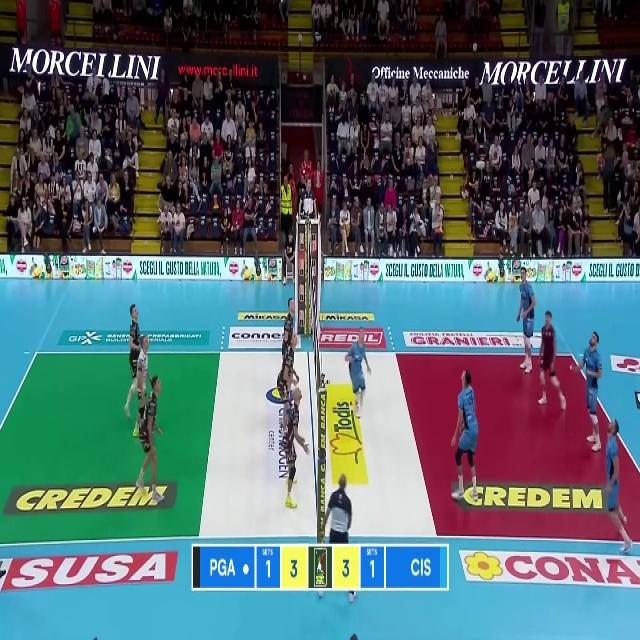volleyball court: (2, 349, 640, 548)
